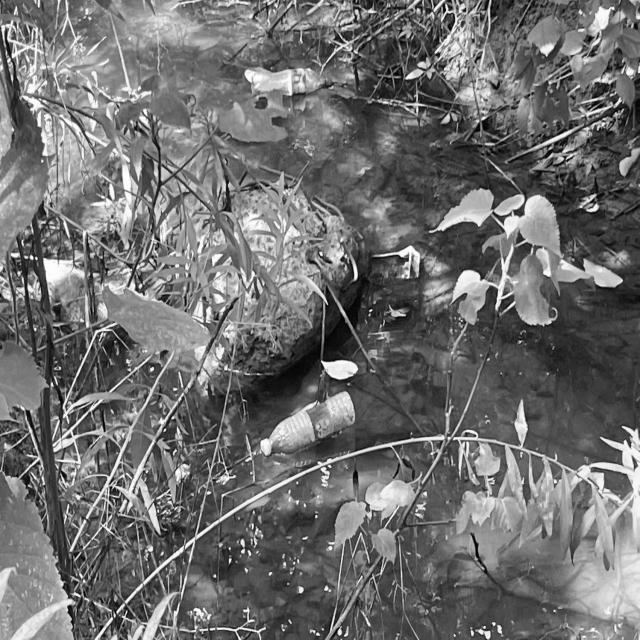Stone: (210, 180, 360, 376)
